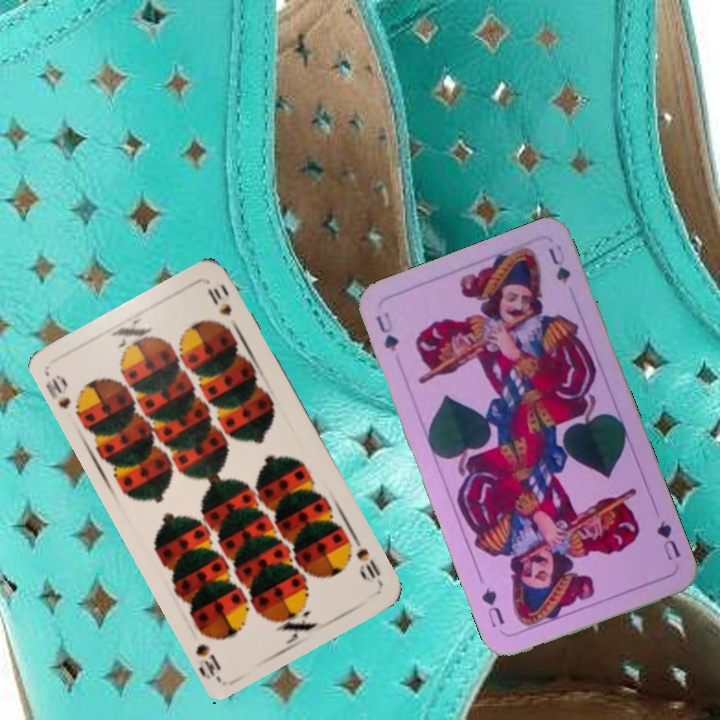GU: (652, 516, 684, 563), (372, 308, 401, 354)
S10: (41, 370, 87, 420), (352, 544, 384, 581)
